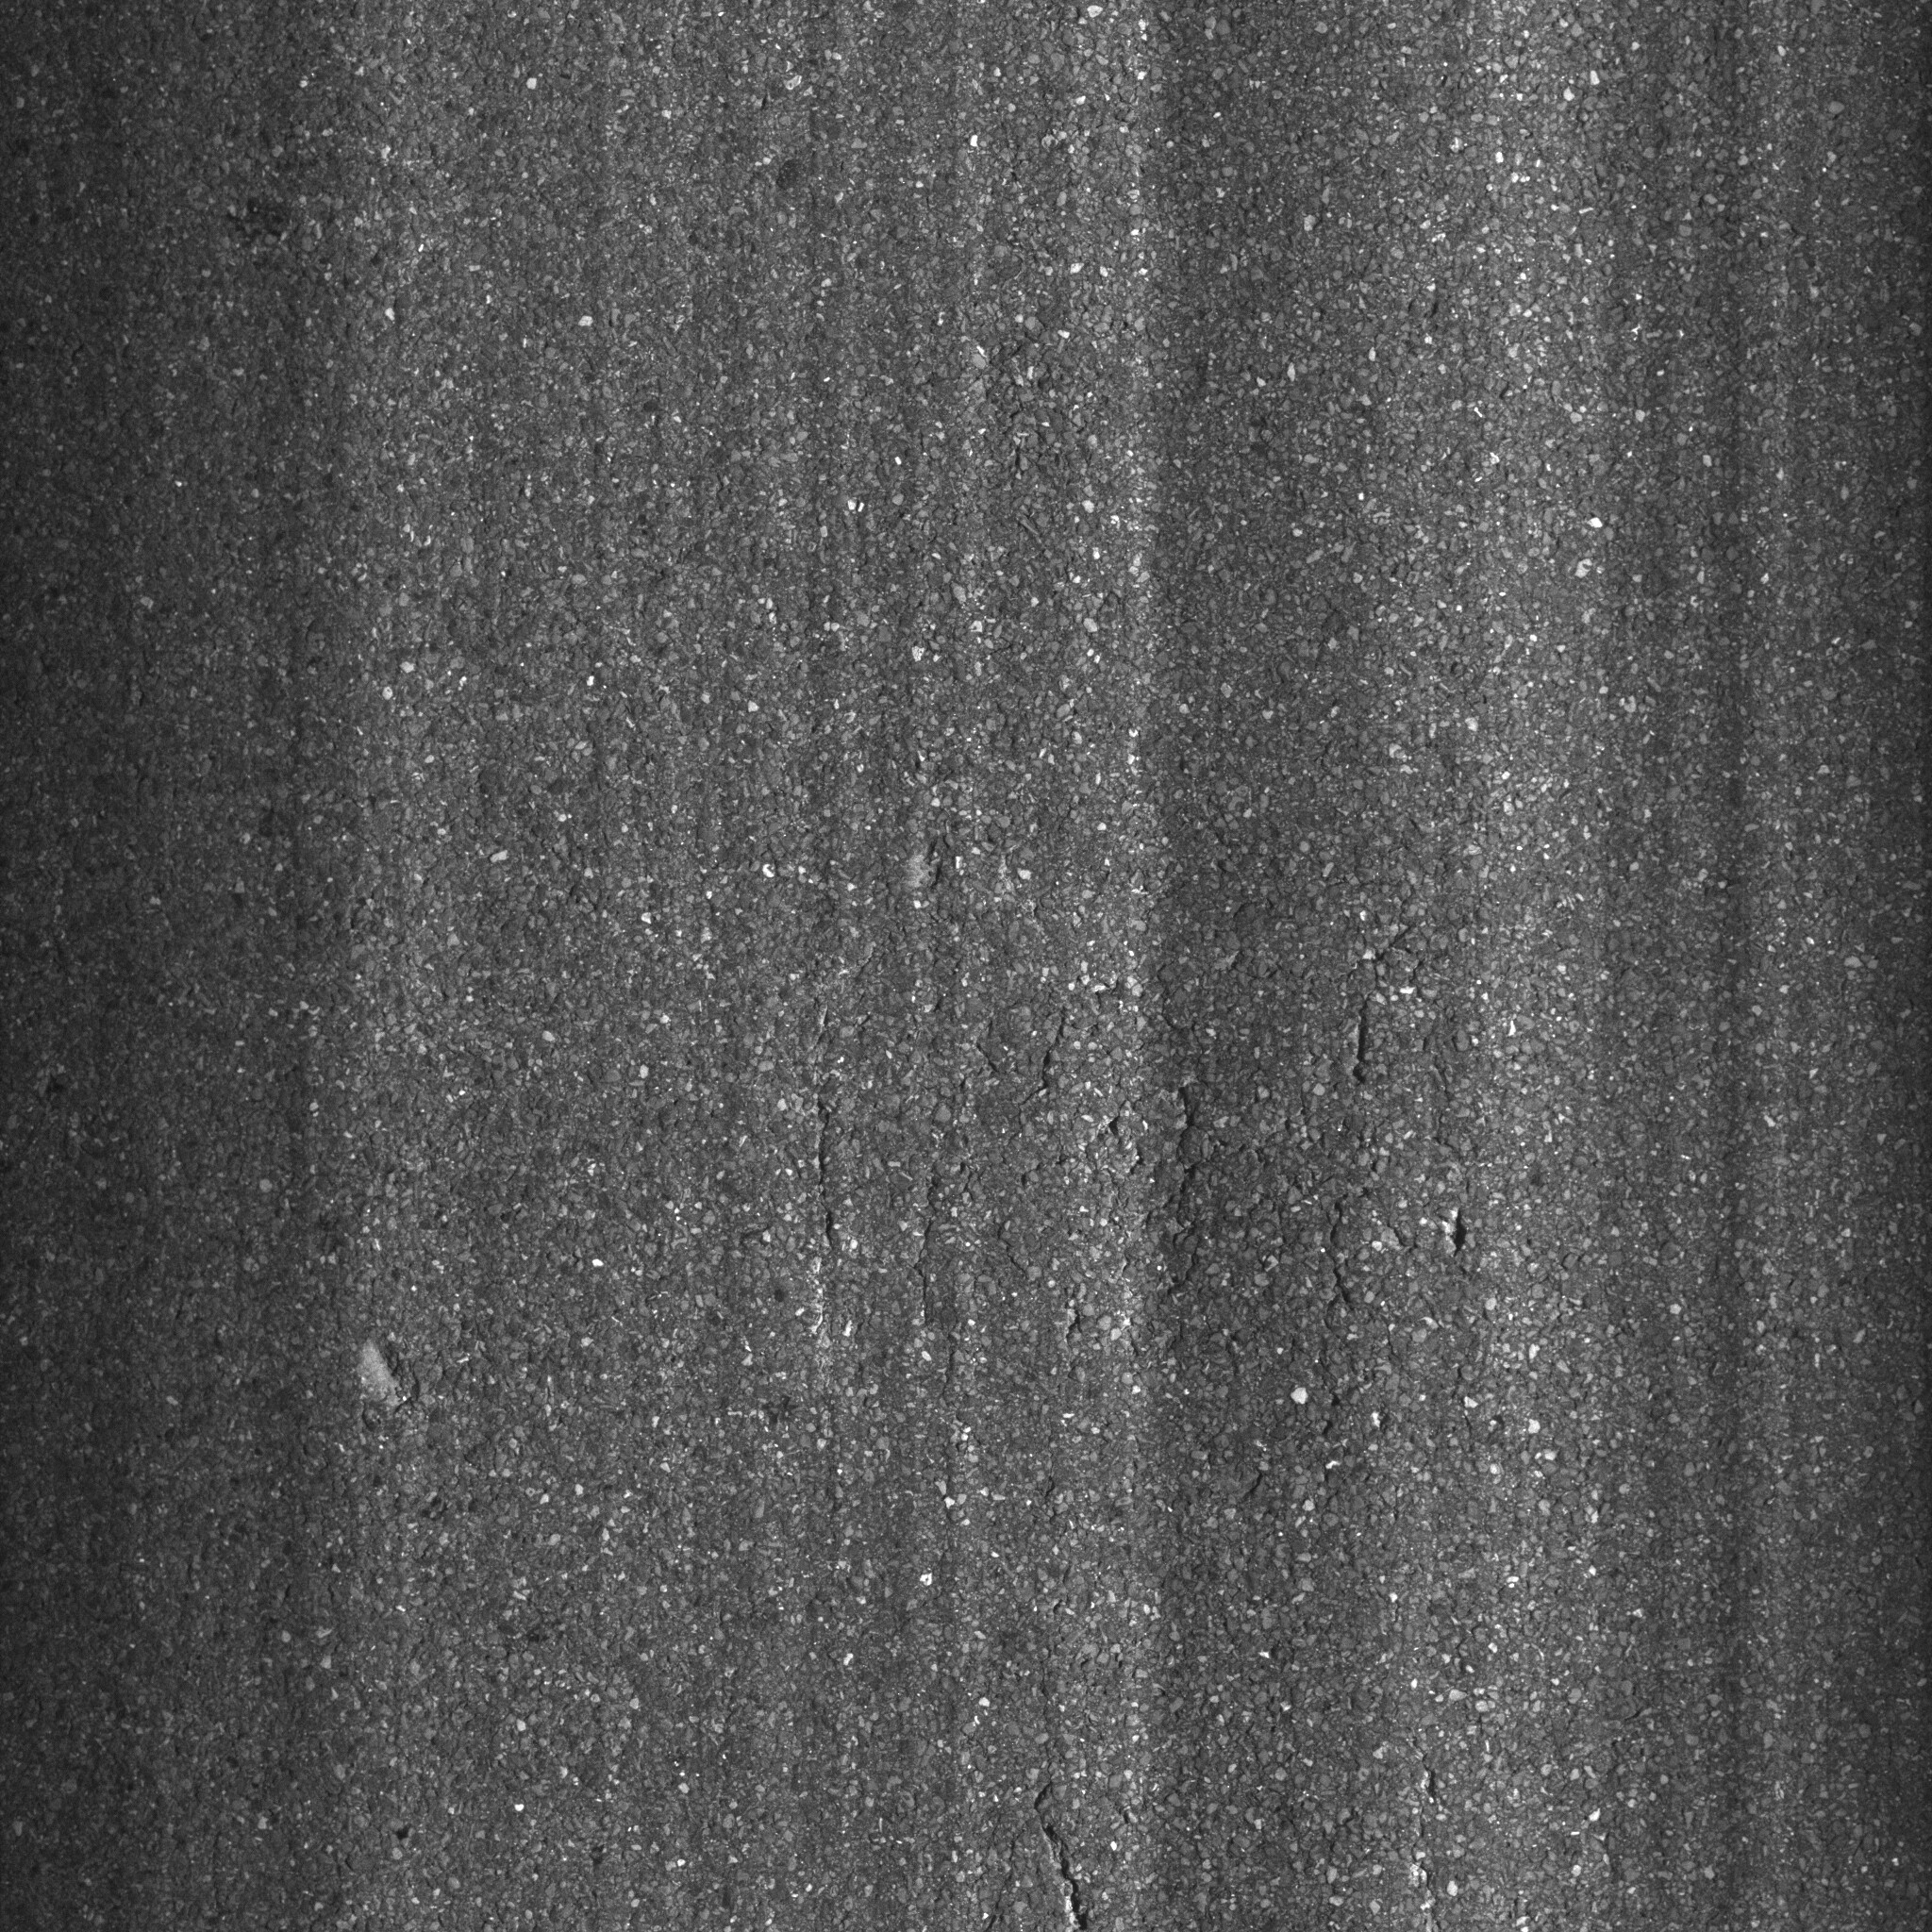alligator: (678, 842, 1658, 1704)
